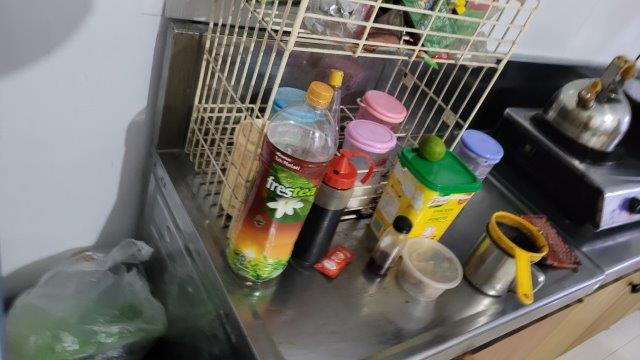botolplastik: (227, 80, 338, 286)
